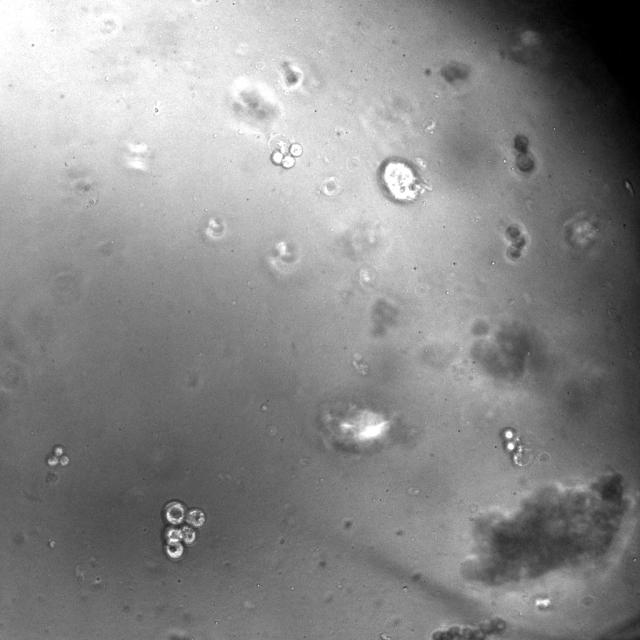organoid: (464, 474, 631, 585), (470, 320, 546, 379), (318, 400, 394, 453), (162, 500, 205, 560), (377, 156, 426, 204), (431, 616, 506, 639), (500, 427, 532, 467), (563, 214, 597, 250), (504, 225, 530, 261), (513, 135, 536, 173), (271, 142, 303, 169), (281, 61, 305, 90), (441, 61, 470, 83), (46, 445, 69, 467)
